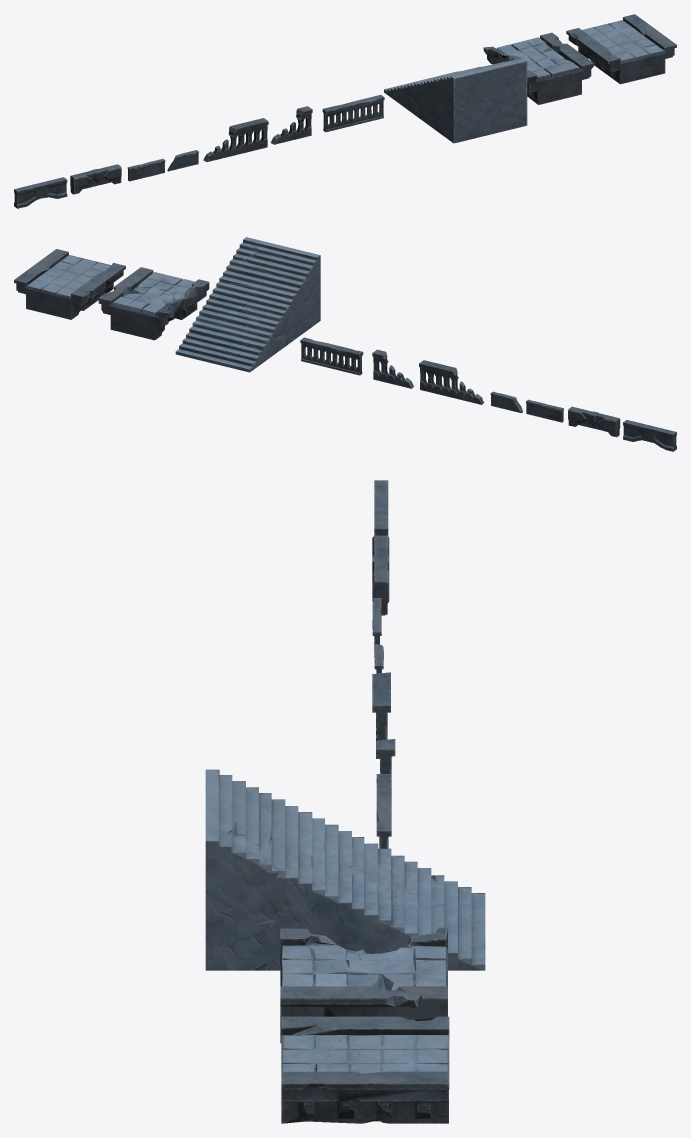
File: StairBridge.fbx
3 renders of one model, top to bottom at view 1: azimuth 30°, elevation 25°; view 2: azimuth 150°, elevation 25°; view 3: azimuth 270°, elevation 25°, orthographic. The views are drawn at different scales.
Parts seen in each view (by area): view 1: Stair_low.001, Bridge.003_low.001, Bridge_low.001, Handrail.002_low.001, Handrail.001_low.001, ShortWall.003_low.001, ShortWall_low.001, Handrail_low.001, ShortWall.002_low.001, ShortWall.001_low.001; view 2: Stair_low.001, Bridge_low.001, Bridge.003_low.001, Handrail.002_low.001, Handrail.001_low.001, ShortWall.003_low.001, ShortWall_low.001, Handrail_low.001, ShortWall.002_low.001, ShortWall.001_low.001; view 3: Stair_low.001, Bridge.003_low.001, Bridge_low.001, ShortWall_low.001, Handrail.001_low.001, Handrail.002_low.001.
Part boxes in pixels (x1=…): Stair_low.001: x1=384, y1=58, x2=527, y2=143; Bridge.003_low.001: x1=566, y1=14, x2=676, y2=84; Bridge_low.001: x1=483, y1=32, x2=593, y2=104; Handrail.002_low.001: x1=203, y1=118, x2=268, y2=161; Handrail.001_low.001: x1=322, y1=95, x2=384, y2=132; ShortWall.003_low.001: x1=14, y1=177, x2=67, y2=208; ShortWall_low.001: x1=70, y1=164, x2=121, y2=194; Handrail_low.001: x1=270, y1=106, x2=312, y2=144; ShortWall.002_low.001: x1=127, y1=159, x2=165, y2=181; ShortWall.001_low.001: x1=167, y1=150, x2=198, y2=171; Stair_low.001: x1=175, y1=237, x2=320, y2=372; Bridge_low.001: x1=98, y1=267, x2=209, y2=340; Bridge.003_low.001: x1=14, y1=249, x2=125, y2=319; Handrail.002_low.001: x1=419, y1=360, x2=484, y2=404; Handrail.001_low.001: x1=300, y1=337, x2=363, y2=375; ShortWall.003_low.001: x1=623, y1=420, x2=676, y2=451; ShortWall_low.001: x1=568, y1=406, x2=620, y2=437; Handrail_low.001: x1=372, y1=349, x2=413, y2=388; ShortWall.002_low.001: x1=526, y1=399, x2=563, y2=422; ShortWall.001_low.001: x1=490, y1=391, x2=522, y2=413; Stair_low.001: x1=205, y1=769, x2=485, y2=970; Bridge.003_low.001: x1=281, y1=1016, x2=449, y2=1123; Bridge_low.001: x1=280, y1=927, x2=447, y2=1043; ShortWall_low.001: x1=372, y1=535, x2=389, y2=615; Handrail.001_low.001: x1=376, y1=774, x2=391, y2=848; Handrail.002_low.001: x1=372, y1=672, x2=390, y2=758.
Size of the model in its own units: 136 by 13.33 by 25.92.
